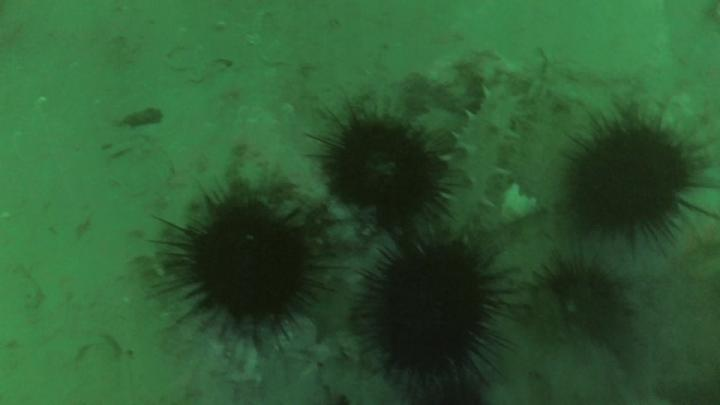echinus: (369, 244, 495, 377), (185, 200, 316, 323), (569, 126, 691, 235), (327, 122, 443, 227), (537, 267, 617, 340)
holothurian: (445, 85, 527, 240)
